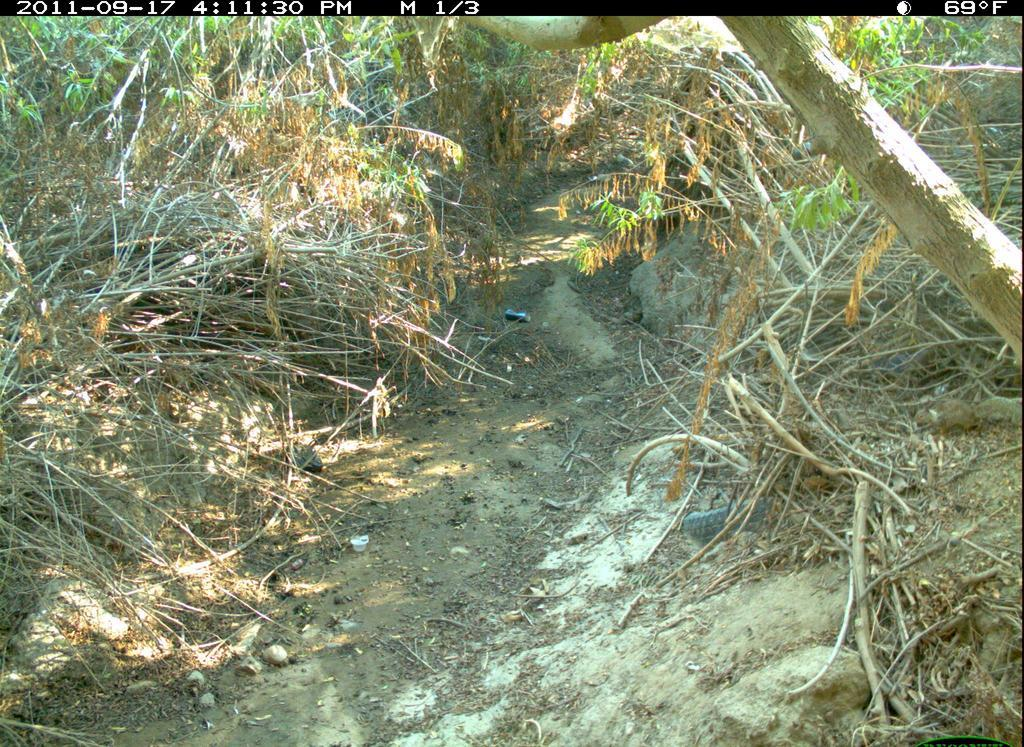squirrel: (912, 387, 1021, 441)
